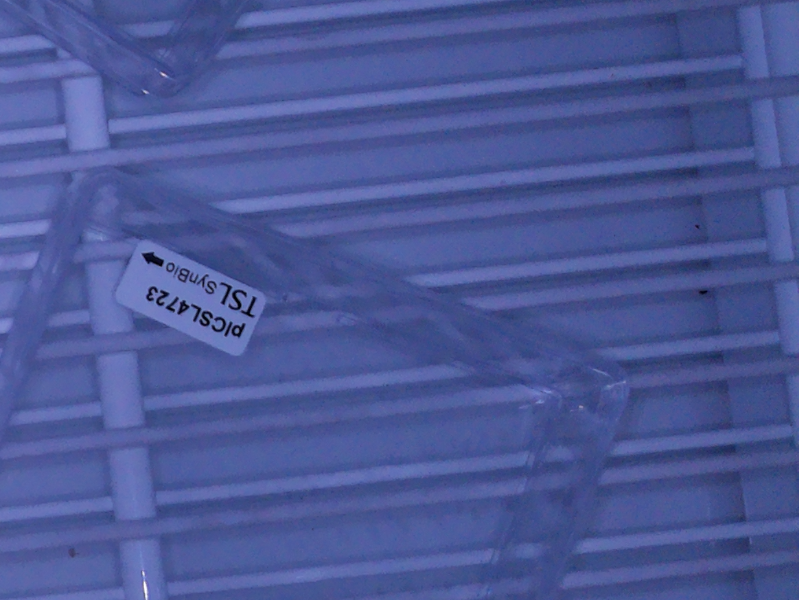plate: (1, 167, 630, 600), (1, 1, 246, 99)
